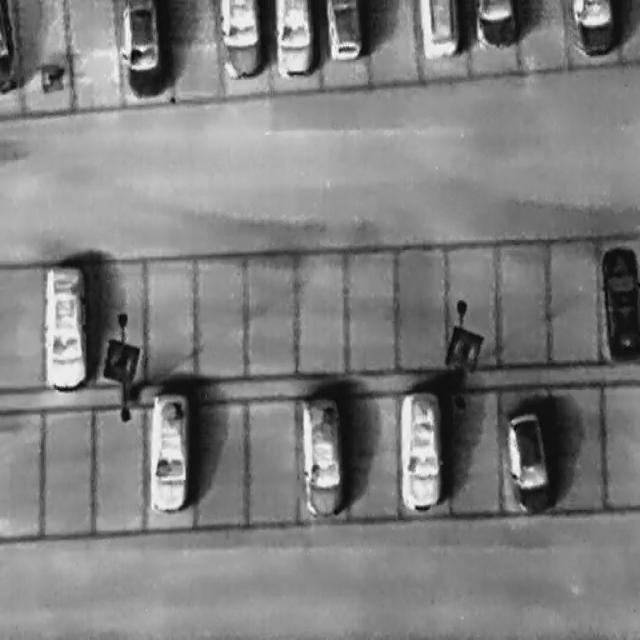Car: (40, 261, 89, 391), (501, 409, 555, 520), (399, 389, 441, 511), (301, 397, 343, 518), (149, 391, 188, 511), (605, 244, 637, 365), (120, 2, 160, 96), (220, 1, 262, 76), (274, 0, 312, 76), (419, 0, 458, 59), (574, 0, 615, 55), (326, 0, 362, 60), (475, 2, 517, 48)
